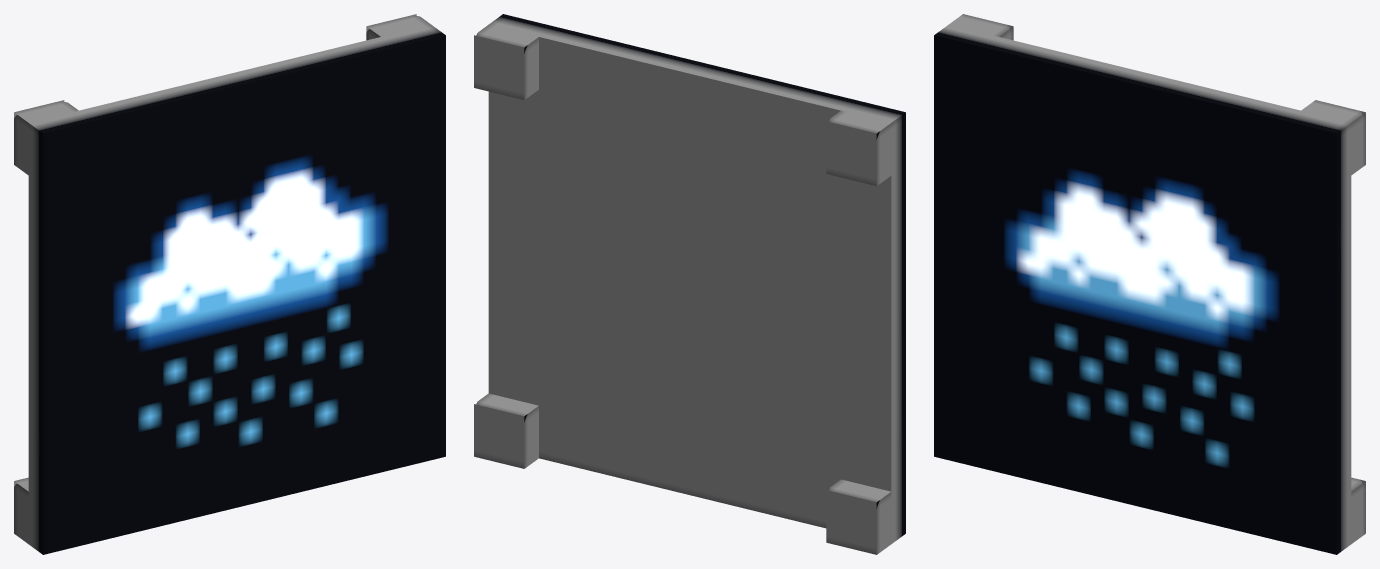
The picture shows the model from 3 angles, left to right: view 1: azimuth 30°, elevation 25°; view 2: azimuth 150°, elevation 25°; view 3: azimuth 330°, elevation 25°; orthographic projection.
Parts seen in each view (by area): view 1: chmurka2; view 2: chmurka2; view 3: chmurka2.
Boxes of the visible parts, x1,y1,x2,y2 form: chmurka2: [14, 14, 445, 554]; chmurka2: [474, 14, 905, 554]; chmurka2: [934, 14, 1365, 554].
Size of the model in its own units: 32 by 32 by 4.
Materials: 1 (1 with a texture image).
